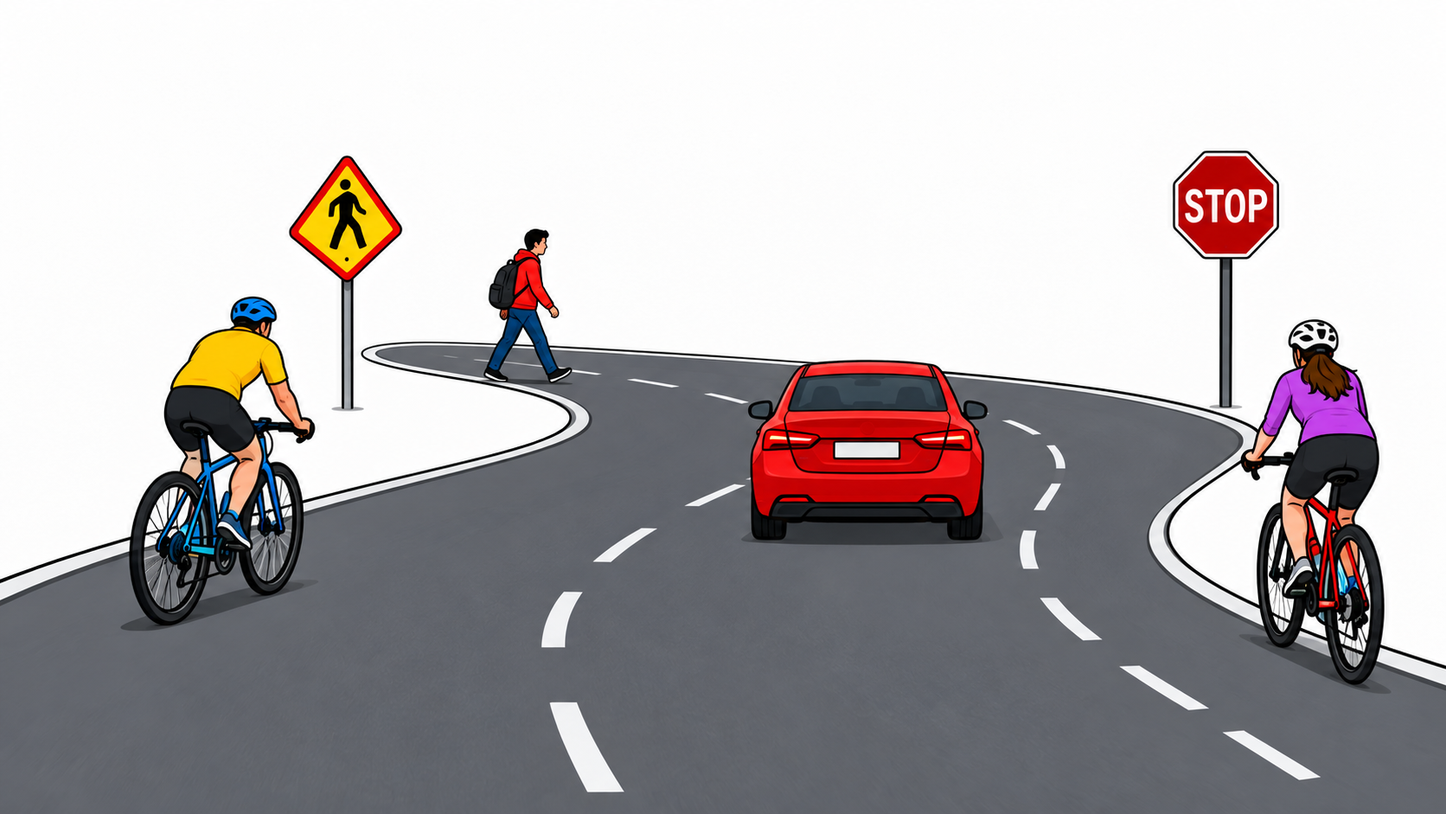bicycle: (125, 411, 319, 628), (1252, 433, 1391, 688)
car: (745, 359, 990, 547)
crossing_warning_sign: (288, 156, 402, 278)
person: (163, 296, 319, 557), (1244, 320, 1372, 619), (483, 228, 574, 383)
stop_sign: (1172, 151, 1278, 261)
